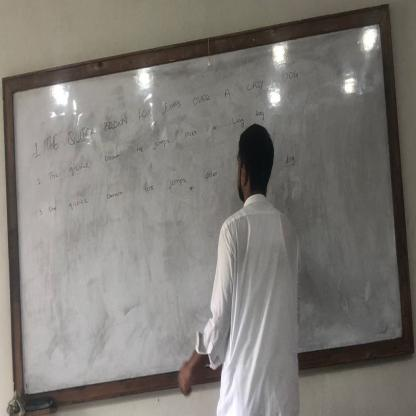Handwritten text: (35, 48, 312, 162), (40, 99, 274, 188), (44, 157, 227, 224)
Lecturer: (204, 115, 307, 416)
